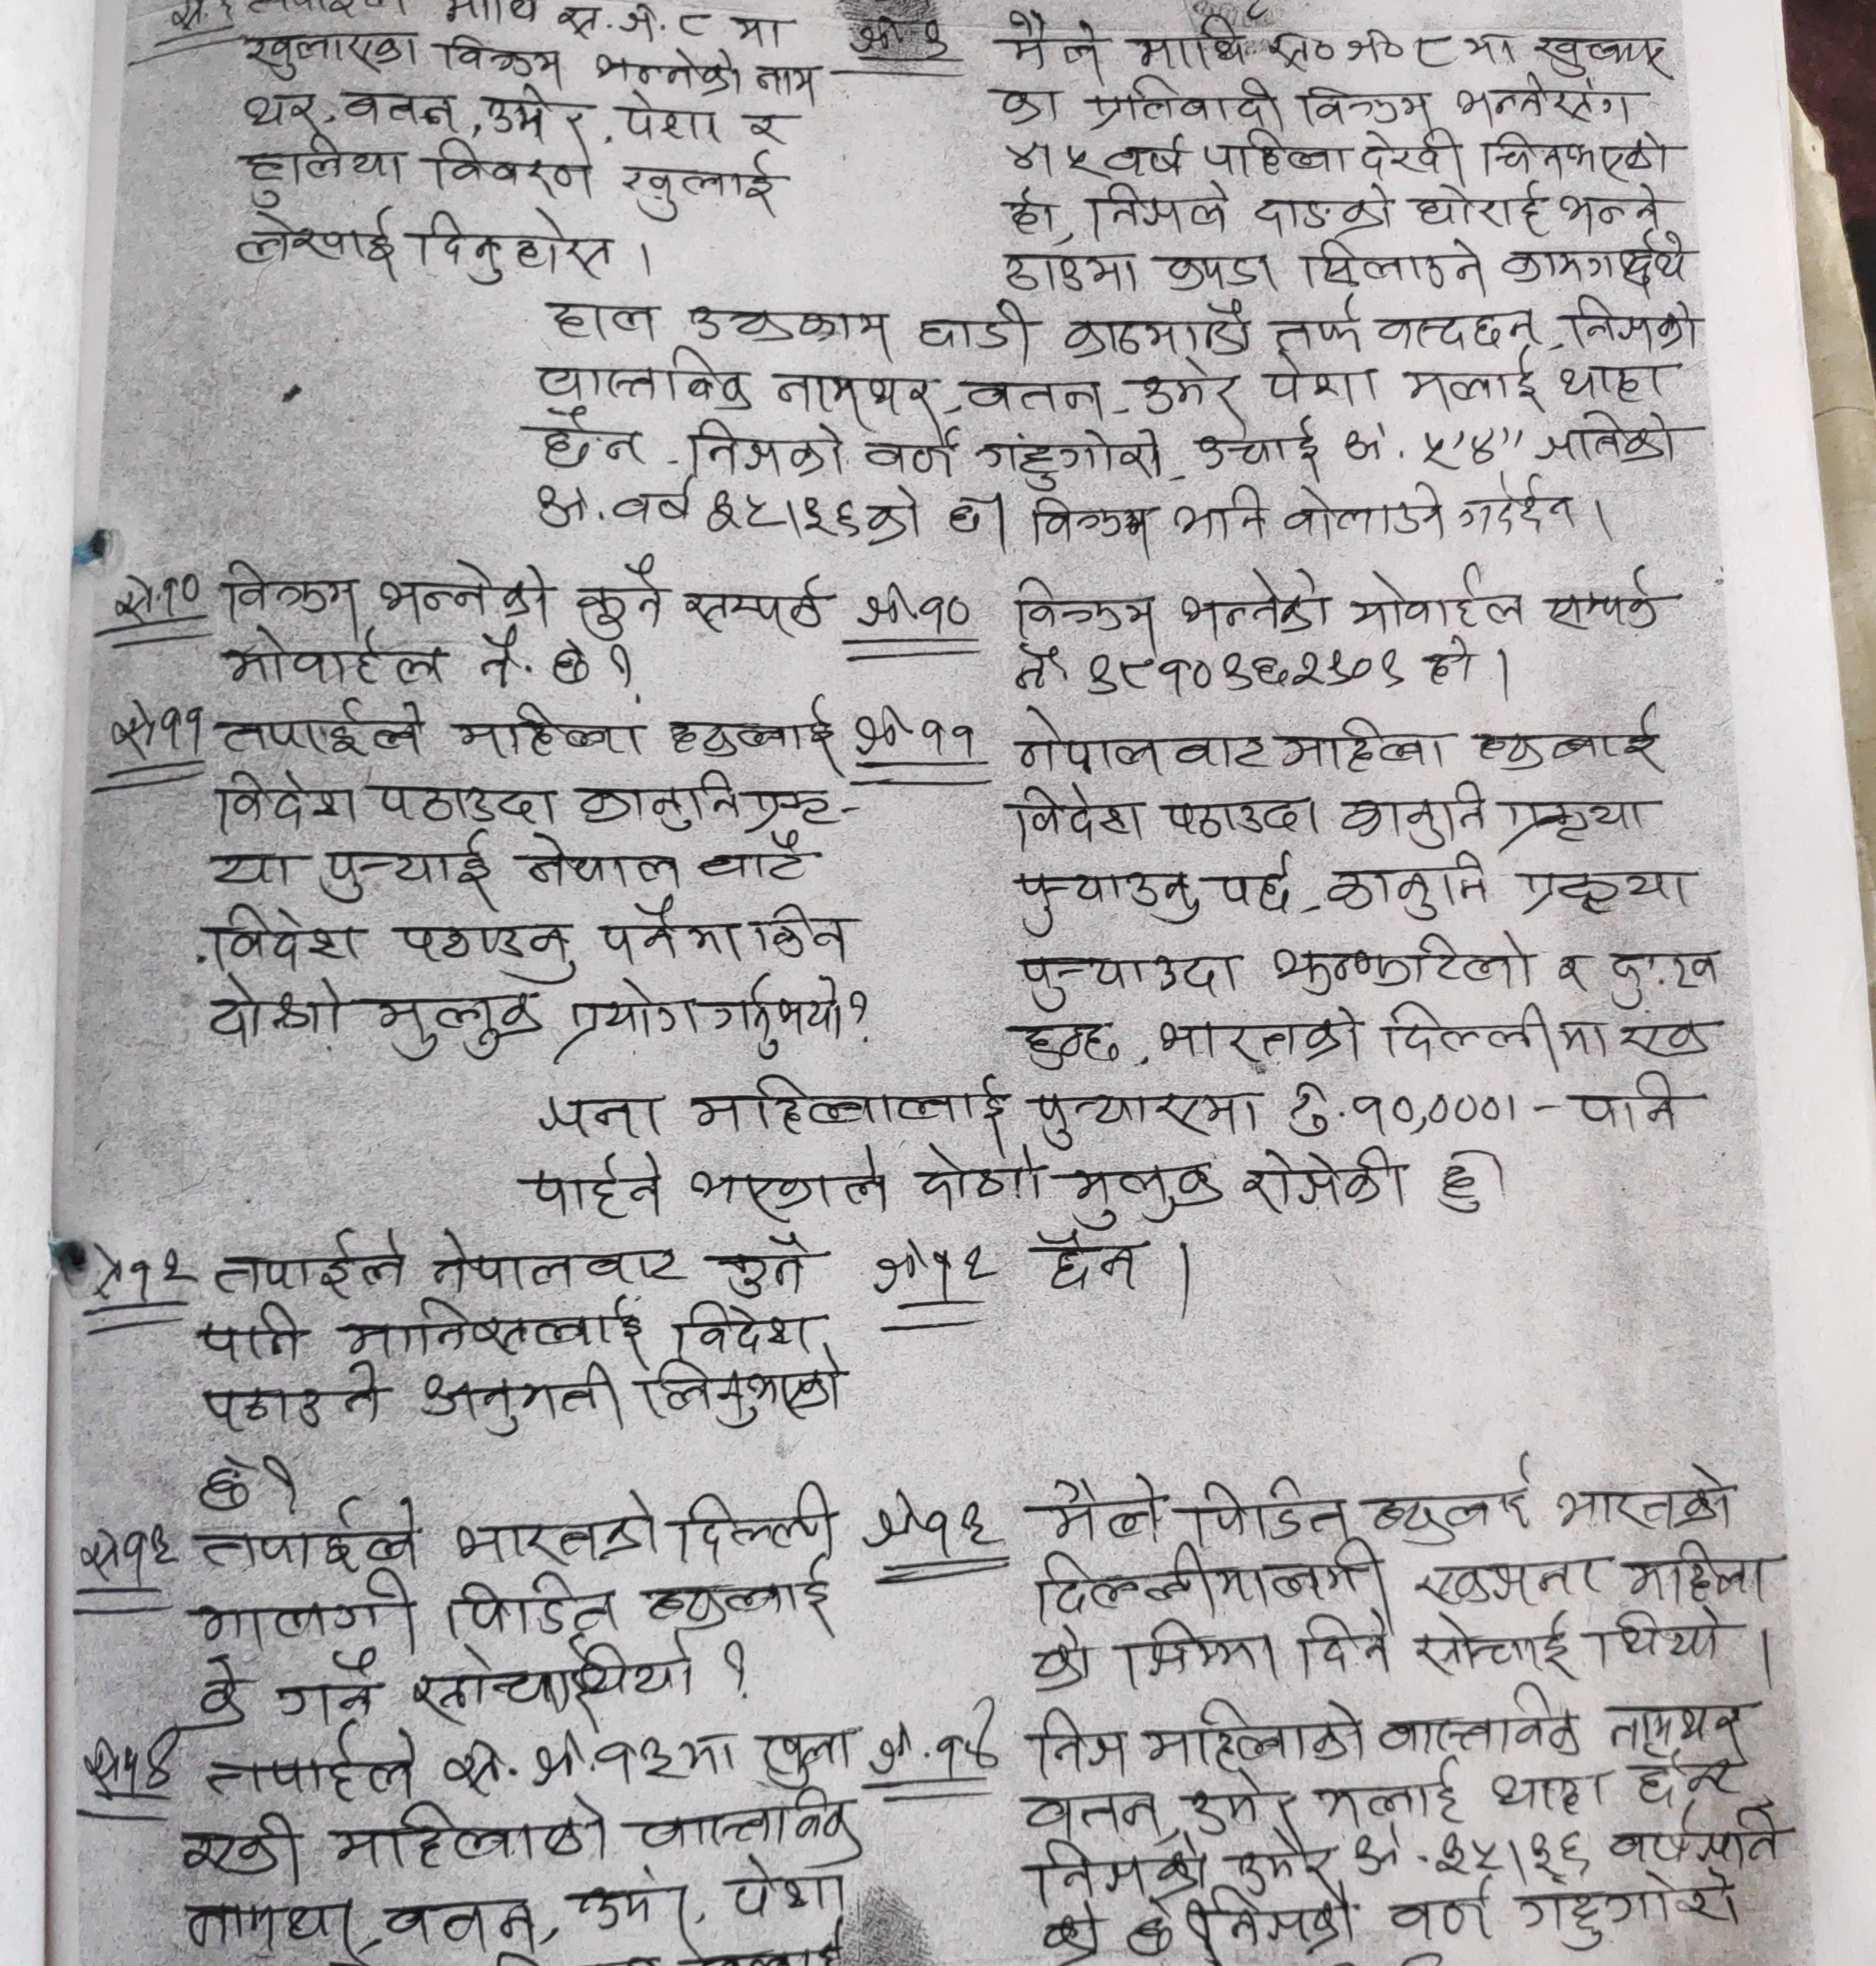text: (556, 969, 842, 1060), (1032, 1545, 1388, 1613), (405, 1638, 705, 1717), (686, 1071, 1007, 1143), (323, 1794, 611, 1871), (627, 1780, 867, 1869), (1011, 702, 1276, 779), (1269, 929, 1537, 999), (412, 200, 618, 290), (1141, 1689, 1367, 1769), (1083, 644, 1416, 699), (1364, 1445, 1541, 1546), (1516, 1878, 1750, 1954), (1376, 1678, 1588, 1761), (340, 1297, 642, 1355), (628, 1352, 844, 1432), (184, 1568, 419, 1641), (428, 1223, 688, 1290), (200, 1731, 423, 1808), (437, 1734, 742, 1790), (1376, 994, 1613, 1064), (219, 621, 453, 690), (1283, 1073, 1522, 1139), (532, 342, 763, 411), (448, 1494, 660, 1568), (1546, 1460, 1741, 1539), (416, 1364, 623, 1438), (686, 1148, 890, 1222), (639, 1553, 834, 1629), (709, 483, 928, 549), (1016, 951, 1246, 1015), (1032, 1087, 1262, 1150), (1471, 702, 1672, 774), (216, 695, 426, 764), (388, 913, 581, 987), (193, 1360, 390, 1432), (197, 1511, 430, 1571), (212, 1222, 405, 1294), (1320, 848, 1493, 927), (1232, 1137, 1404, 1216), (228, 204, 404, 281), (1009, 867, 1202, 937), (970, 423, 1167, 491), (676, 1478, 846, 1557), (1113, 1611, 1285, 1689), (1339, 562, 1522, 634), (1155, 1002, 1362, 1066), (239, 125, 407, 202), (426, 130, 598, 205), (1190, 1471, 1353, 1550), (658, 695, 841, 765), (1062, 1155, 1227, 1232), (323, 836, 495, 909), (1276, 470, 1450, 542), (574, 760, 742, 834), (1021, 1836, 1218, 1899), (204, 899, 376, 971), (372, 558, 553, 627), (448, 700, 648, 762), (374, 990, 542, 1062), (1297, 232, 1493, 293), (1497, 232, 1693, 293), (209, 762, 365, 839), (1604, 1808, 1785, 1875), (683, 413, 855, 481), (1413, 1546, 1604, 1608), (442, 1573, 623, 1638), (1334, 776, 1488, 851), (1283, 711, 1453, 779), (1309, 1759, 1471, 1831), (614, 149, 783, 218), (514, 830, 686, 897), (525, 1148, 665, 1227), (1179, 567, 1337, 637), (1081, 74, 1285, 128), (177, 1806, 311, 1889), (1407, 1610, 1579, 1673), (1616, 1538, 1774, 1606), (212, 558, 365, 628), (204, 969, 347, 1043), (1004, 572, 1165, 637), (1085, 179, 1235, 248), (1474, 128, 1669, 181), (676, 570, 828, 637), (1451, 77, 1643, 130), (1007, 779, 1146, 851), (1516, 867, 1693, 923), (593, 899, 742, 965), (1190, 413, 1330, 483), (1253, 172, 1397, 240), (377, 776, 556, 830), (684, 302, 888, 349), (240, 28, 423, 81), (914, 1134, 1048, 1206), (1402, 346, 1546, 413), (1156, 786, 1325, 843), (1037, 1473, 1165, 1546), (1539, 560, 1669, 632), (1588, 1603, 1723, 1671), (1023, 1703, 1135, 1783), (1532, 409, 1688, 467), (1567, 290, 1701, 356), (1430, 1829, 1599, 1882), (1607, 937, 1730, 1009), (1018, 491, 1153, 556), (1023, 1223, 1148, 1294), (1181, 1764, 1299, 1838), (1448, 476, 1578, 542), (1000, 239, 1142, 298), (674, 1294, 820, 1352), (776, 367, 935, 420), (1365, 304, 1543, 351), (1018, 1785, 1167, 1841), (1499, 793, 1657, 846), (526, 404, 648, 472), (1407, 179, 1550, 237), (995, 7, 1107, 79), (1232, 1831, 1343, 1903), (586, 47, 748, 97), (276, 1650, 384, 1722), (1202, 125, 1350, 177), (576, 555, 663, 642), (1523, 28, 1669, 81), (195, 1295, 304, 1366), (1386, 1880, 1500, 1947), (1257, 351, 1379, 413), (1606, 1697, 1753, 1748), (1564, 1071, 1683, 1132), (913, 300, 1042, 356), (430, 28, 562, 83), (1127, 14, 1249, 72), (1295, 81, 1439, 130), (479, 86, 595, 146), (960, 370, 1106, 418), (1295, 1608, 1397, 1675), (1167, 479, 1271, 544), (1485, 1762, 1616, 1813), (756, 1726, 856, 1792), (1627, 1750, 1741, 1808), (614, 90, 725, 149), (1211, 850, 1295, 927), (691, 830, 814, 883), (751, 900, 856, 962), (1351, 123, 1469, 177), (1135, 356, 1239, 418), (1265, 26, 1406, 70), (533, 1094, 667, 1139), (1265, 295, 1372, 351), (548, 293, 662, 346), (721, 1232, 811, 1299), (1557, 355, 1672, 405), (1023, 1618, 1102, 1692), (342, 84, 458, 133), (1155, 248, 1279, 293), (1014, 1020, 1121, 1073), (1557, 179, 1660, 233), (190, 1647, 251, 1734), (1414, 423, 1532, 469), (204, 843, 295, 899), (1002, 133, 1095, 186), (1100, 128, 1193, 181), (1618, 1018, 1722, 1064), (1432, 1143, 1490, 1223), (1041, 1899, 1107, 1966), (1420, 628, 1483, 699), (186, 1455, 258, 1515), (611, 474, 691, 527), (748, 779, 835, 827), (472, 616, 528, 688), (748, 56, 823, 109), (244, 83, 319, 132), (997, 81, 1063, 133), (1002, 641, 1063, 693), (532, 476, 590, 530), (1004, 184, 1060, 239), (1458, 28, 1522, 75), (1351, 1822, 1402, 1880), (1127, 1903, 1176, 1961), (944, 490, 993, 542), (1343, 423, 1390, 474), (742, 104, 795, 149), (546, 644, 598, 686), (1409, 30, 1457, 72), (1550, 946, 1588, 994)
